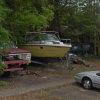Boat: (21, 24, 75, 64)
